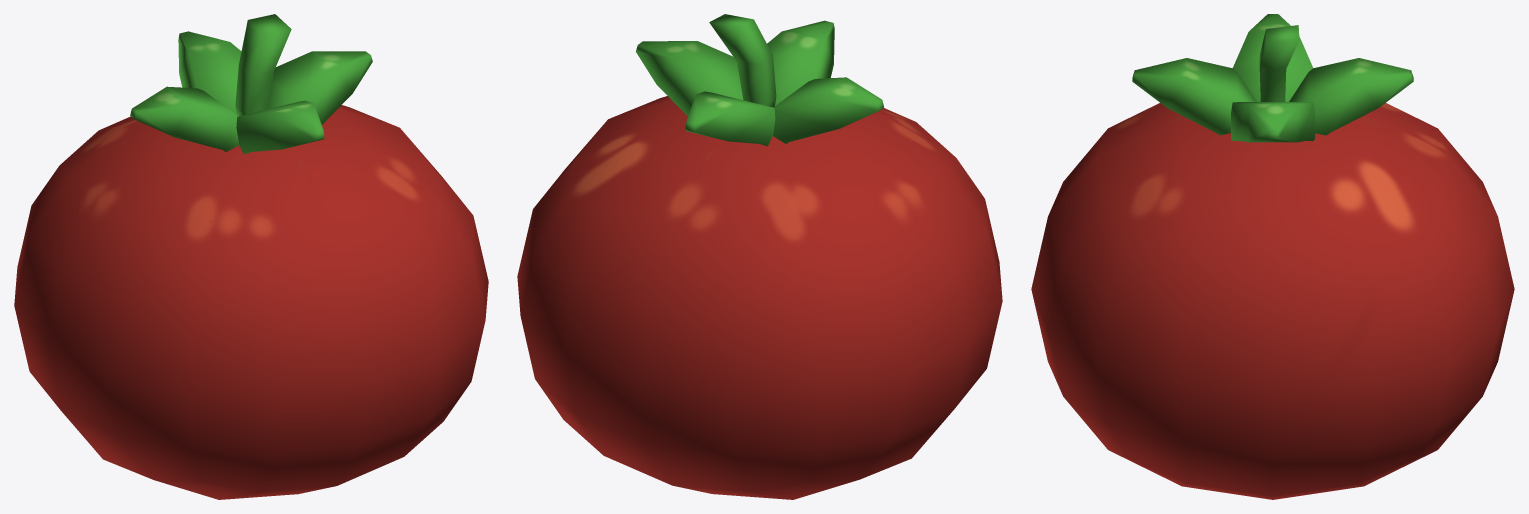
The model's file is tomate.fbx.
3 views of the same model, side by side, from view 1: azimuth 30°, elevation 25°; view 2: azimuth 150°, elevation 25°; view 3: azimuth 270°, elevation 25° (orthographic). The views are drawn at different scales.
Parts seen in each view (by area): view 1: Cube.002; view 2: Cube.002; view 3: Cube.002.
Part boxes in pixels (box(x1,y1,x2,y2)): Cube.002: box(14, 14, 488, 499); Cube.002: box(517, 14, 1002, 499); Cube.002: box(1031, 14, 1514, 499).
Size of the model in its own units: 81.35 by 83.83 by 81.35.
